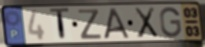4: (27, 8, 48, 43)
A: (103, 7, 131, 40)
G: (159, 6, 183, 39)
T: (49, 7, 71, 43)
X: (133, 6, 160, 40)
Z: (77, 8, 103, 40)
